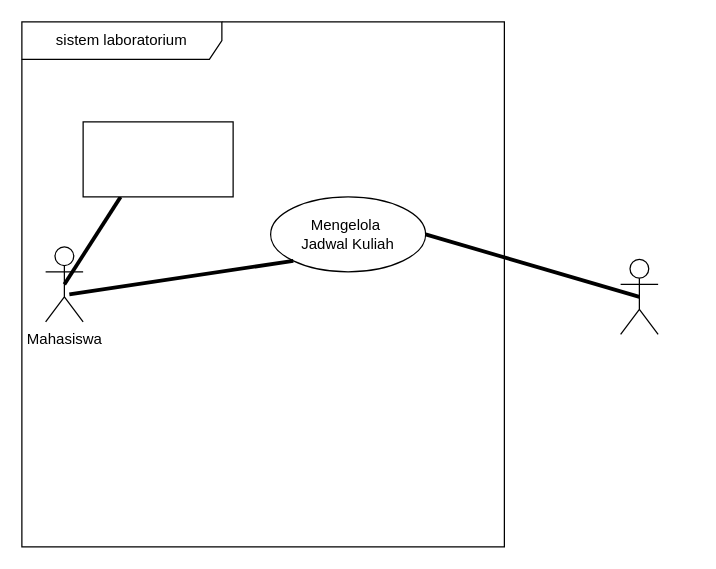
This 716x569 diagram has some shape labels left out. Each missing label, with the centre of its shape:
Admin Akademik: the point at 638,296
Melihat Jadwal Kuliah: the point at 157,159
